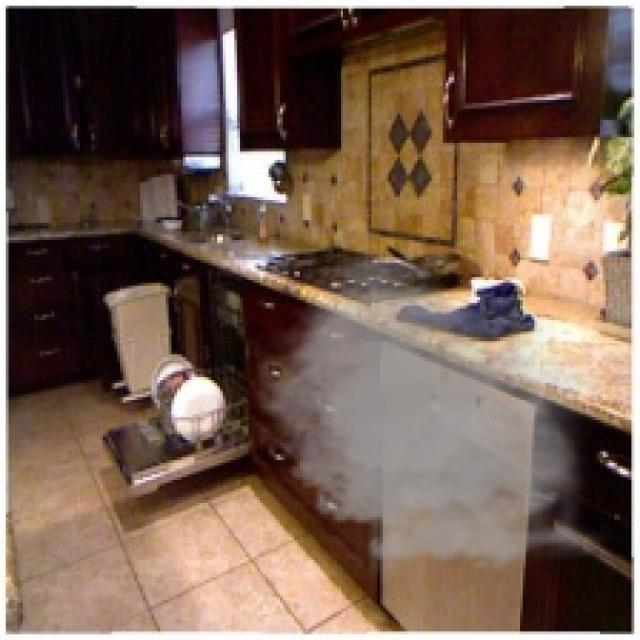Smoke: (246, 243, 614, 586)
